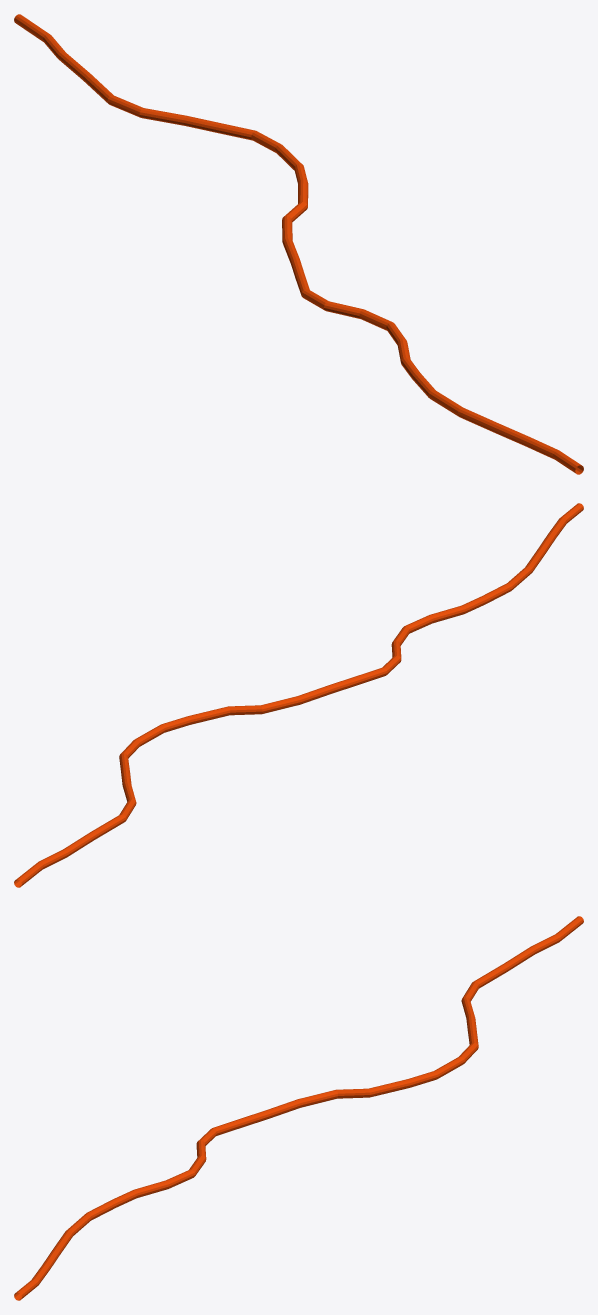
The model's file is Cable4.fbx.
The picture shows the model from 3 angles, top to bottom: view 1: azimuth 30°, elevation 25°; view 2: azimuth 150°, elevation 25°; view 3: azimuth 330°, elevation 25°; orthographic projection. The views are drawn at different scales.
Visible parts, largest first — view 1: Vert.003; view 2: Vert.003; view 3: Vert.003.
Boxes of the visible parts, box(x1,y1,x2,y2) form: Vert.003: box(14, 14, 583, 474); Vert.003: box(14, 503, 583, 887); Vert.003: box(14, 916, 583, 1300).
Size of the model in its own units: 32.4 by 2 by 232.
